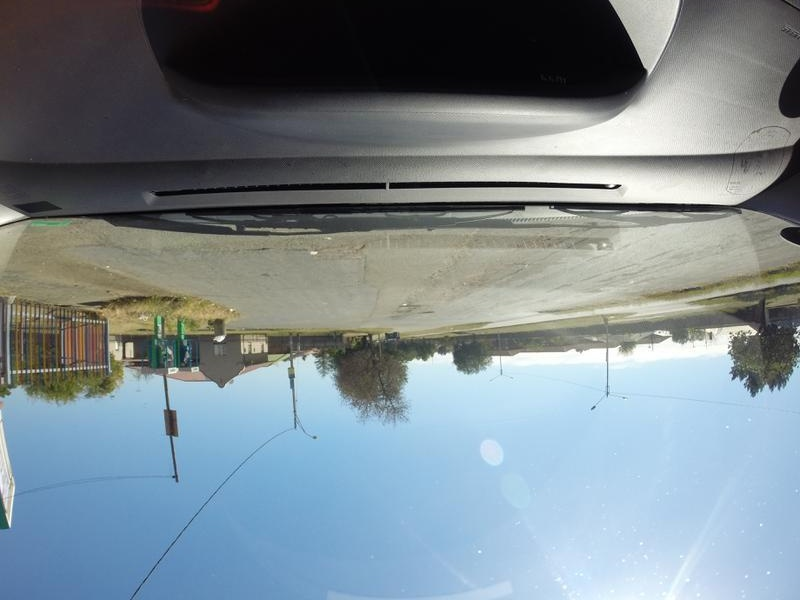pothole: (489, 265, 522, 282), (329, 244, 358, 257), (240, 247, 269, 255), (397, 303, 421, 308), (418, 309, 434, 316), (257, 271, 270, 279)
